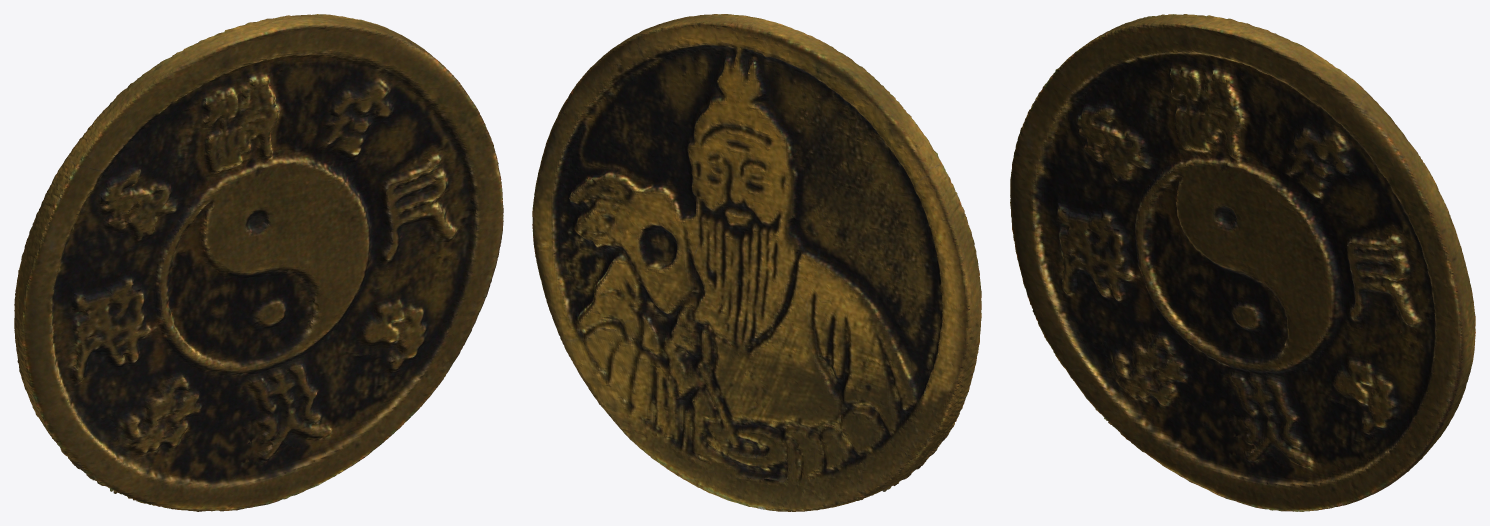
File: chinese_coin.obj
The picture shows the model from 3 angles, left to right: view 1: azimuth 30°, elevation 25°; view 2: azimuth 150°, elevation 25°; view 3: azimuth 330°, elevation 25°; orthographic projection. The views are drawn at different scales.
Bounding box in the file's own units: 29.43 × 29.31 × 3.78.
1 material, 1 textured.
